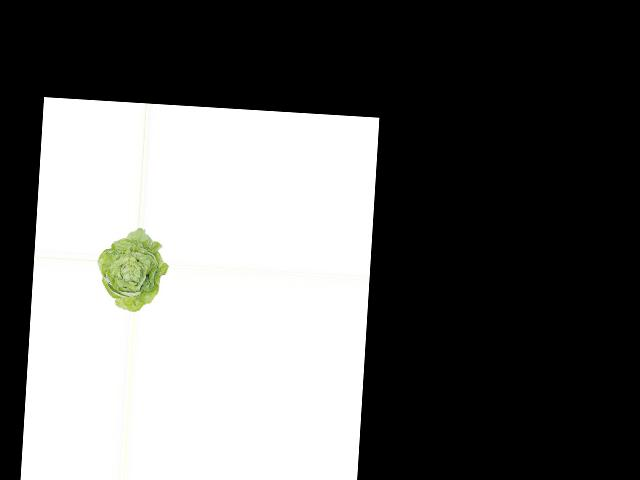lettuce: (95, 227, 170, 314)
